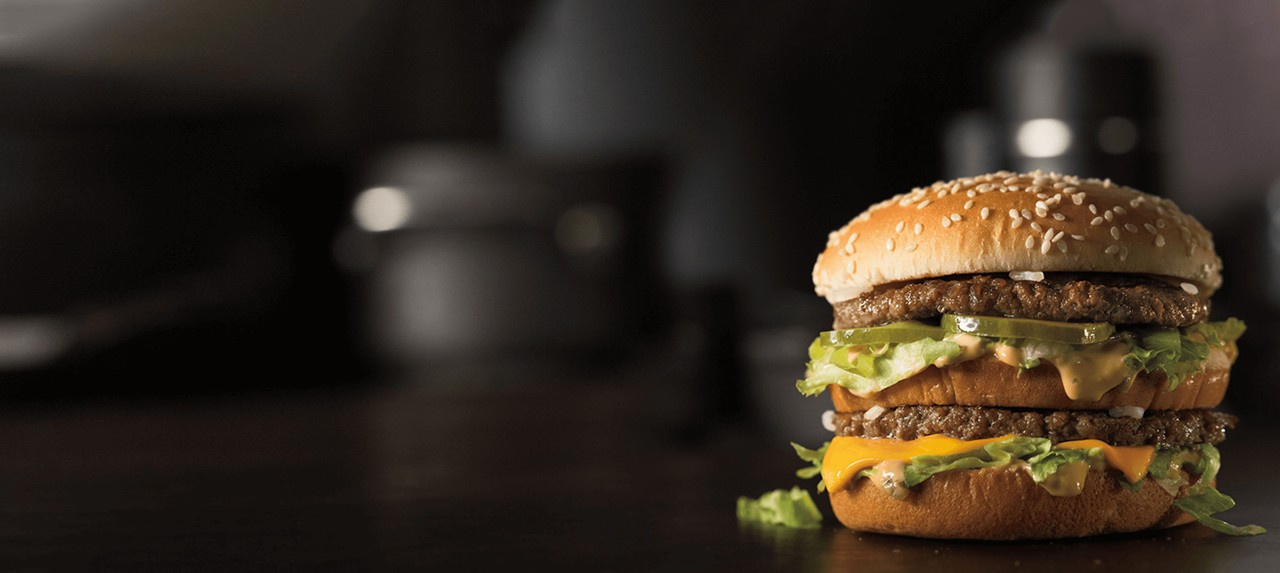hamburger: (770, 164, 1245, 573)
